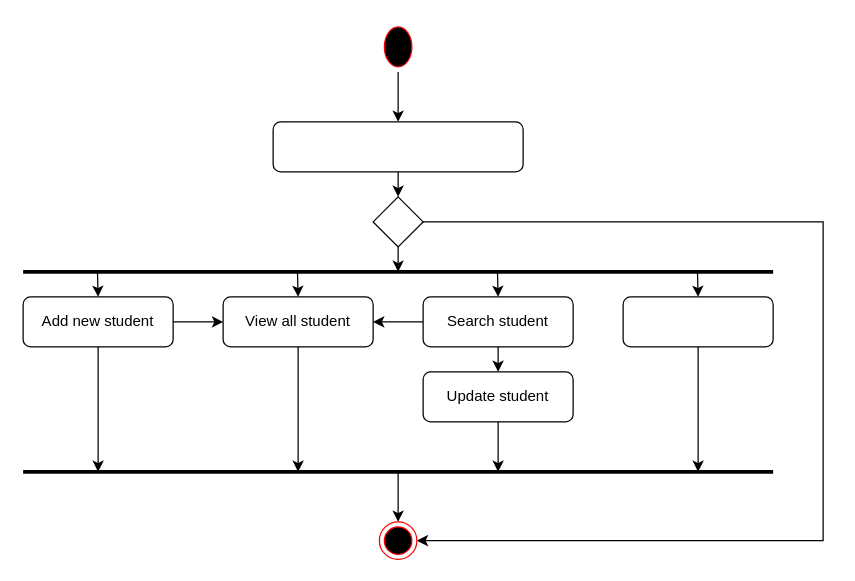
Image size: 855x581. Some labels were removed from this diagram. The shapes that lost their labels are listed below. From the top down, each one's centre as x and y in pixels, then its label:
pixel 397 146: Standard Management
pixel 697 321: Delete student
